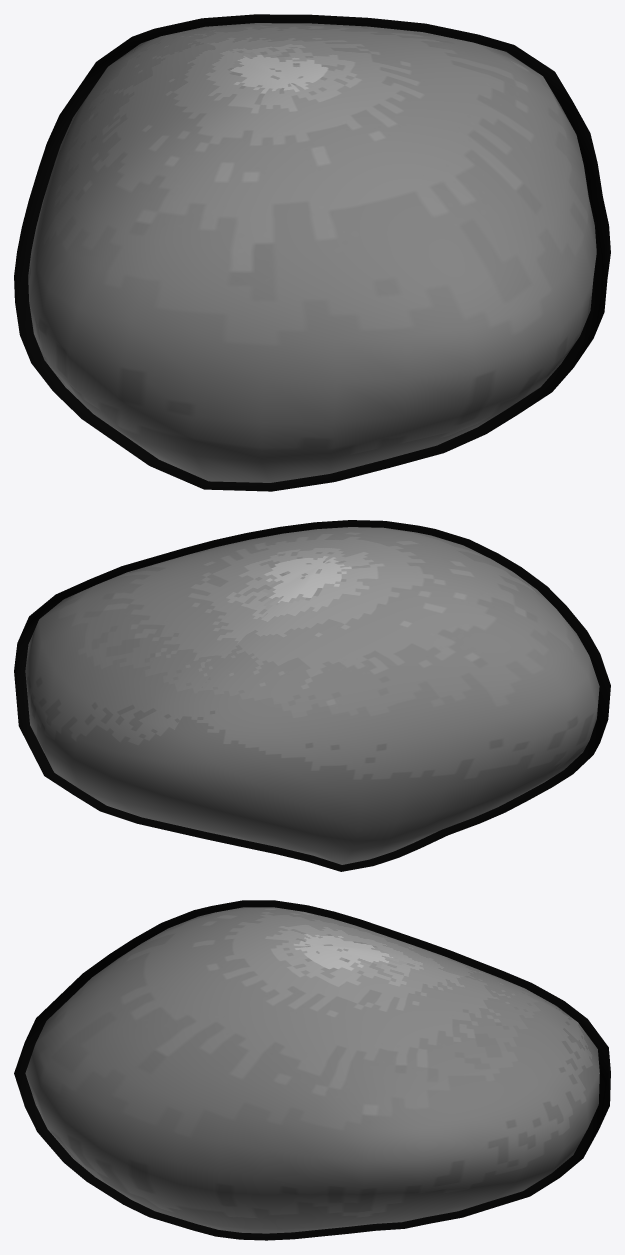
The model's file is (OLD)small stone 3.fbx.
The picture shows the model from 3 angles, top to bottom: view 1: azimuth 30°, elevation 25°; view 2: azimuth 150°, elevation 25°; view 3: azimuth 270°, elevation 25°; orthographic projection. The views are drawn at different scales.
Parts seen in each view (by area): view 1: SmallStone3, OT SmallStone3; view 2: SmallStone3, OT SmallStone3; view 3: SmallStone3, OT SmallStone3.
Boxes of the visible parts, x1,y1,x2,y2 form: SmallStone3: [28, 23, 596, 482]; OT SmallStone3: [14, 14, 610, 491]; SmallStone3: [25, 527, 599, 864]; OT SmallStone3: [14, 520, 610, 871]; SmallStone3: [25, 907, 599, 1233]; OT SmallStone3: [14, 900, 610, 1240].
Bounding box in the file's own units: 4.41 × 2.32 × 4.69.
Materials: 2 (1 with a texture image).
